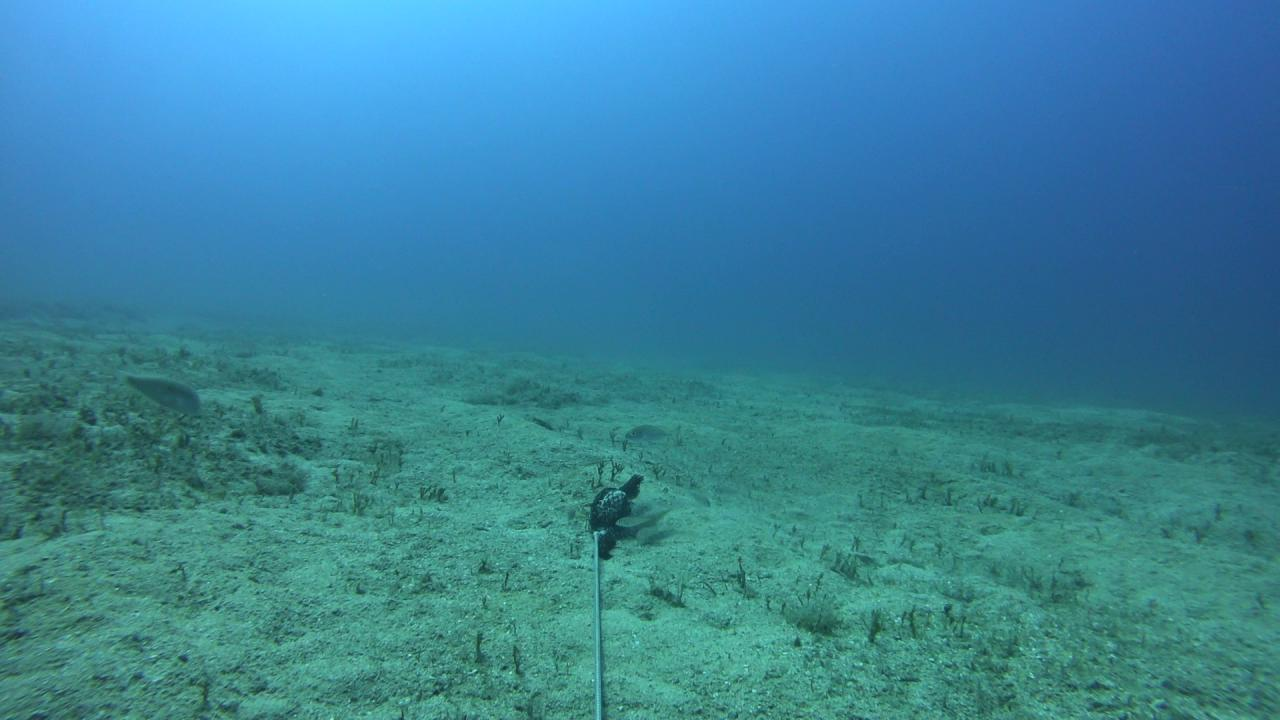pagellus: (624, 423, 679, 444), (637, 524, 664, 546), (617, 516, 653, 526)
raor: (112, 366, 202, 416)
